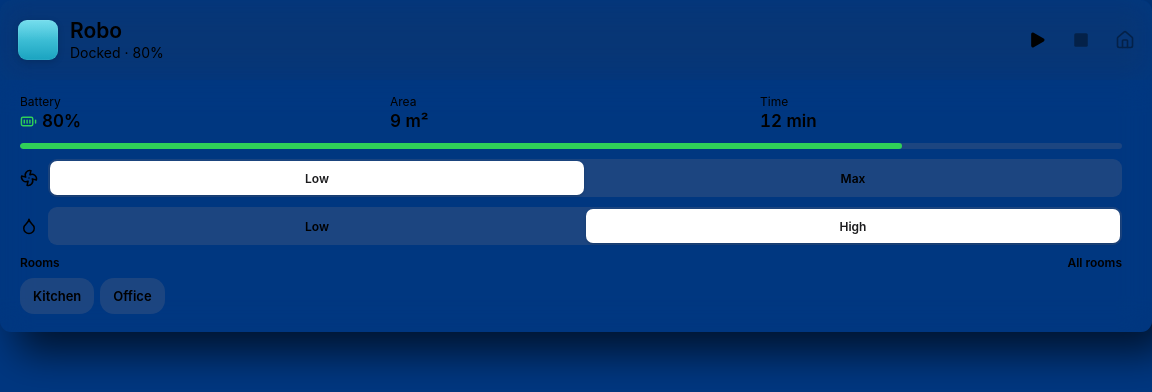
it: Vacuum cards › shows stats, controls and rooms, and starts the picked rooms
Expected: the text "Docked · 80%" is shown, [70,42,164,62]
Expected: the text "9 m²" is shown, [390,111,429,131]
Click the button "Office". click: {"x": 132, "y": 296}
box: [100,278,165,314]
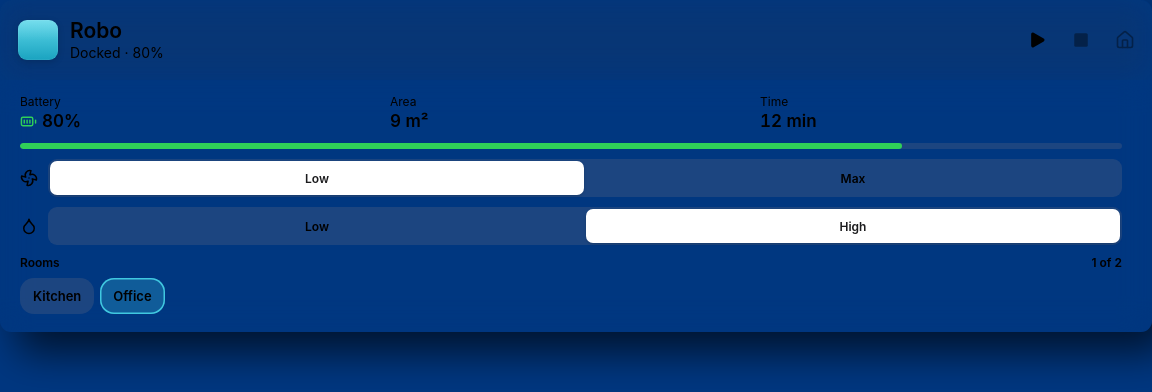
Result: the text "1 of 2" is shown at [1091,255,1122,271]
Click the button named "Start". click: {"x": 1037, "y": 40}
box: [1018,21,1056,59]
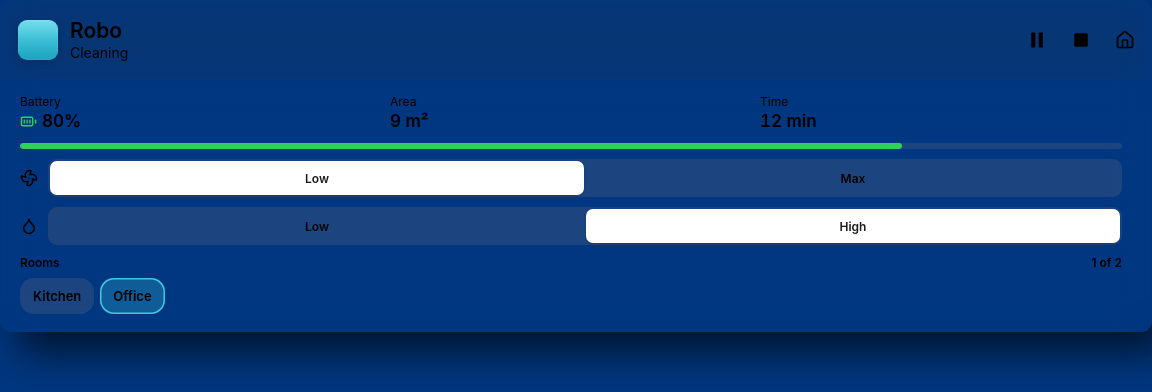
Result: the button named "Pause" is shown at [1018,21,1056,59]
Result: the button named "Stop" is enabled at [1062,21,1100,59]
